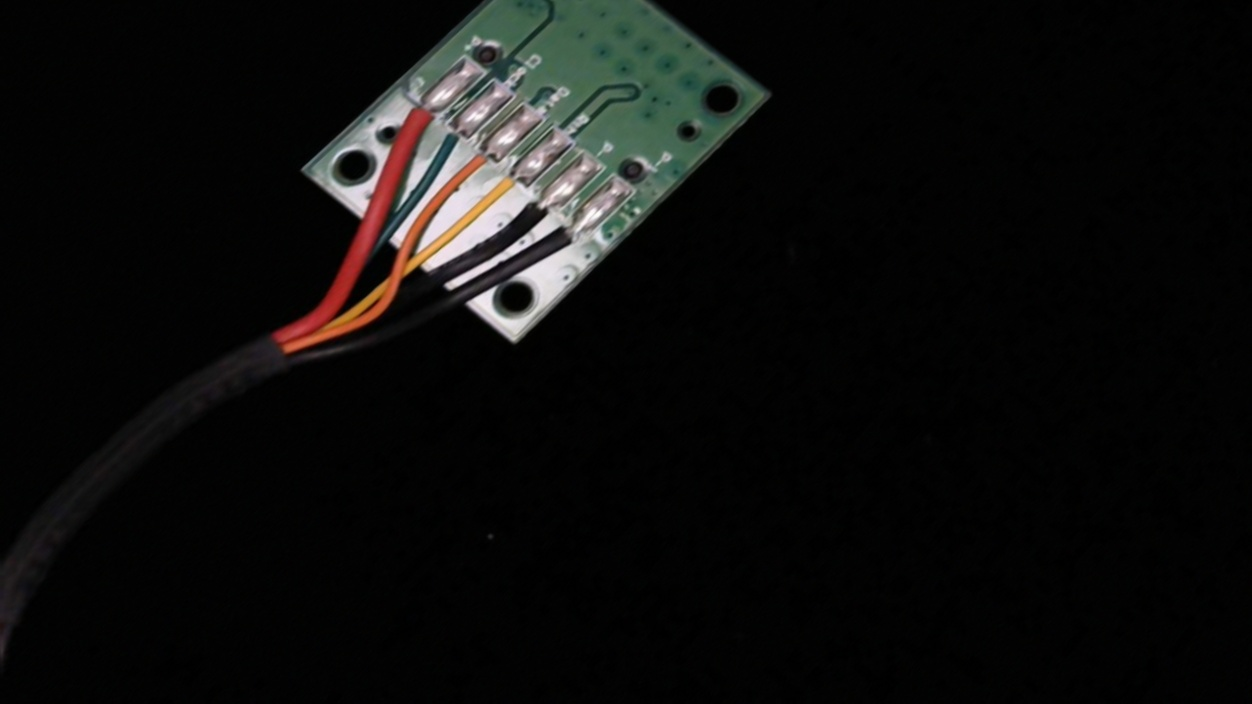Black: (499, 184, 569, 244)
Black1: (528, 208, 600, 270)
Green: (413, 111, 484, 168)
Orange: (441, 135, 512, 194)
Red: (385, 88, 452, 143)
Yellow: (465, 160, 540, 223)
